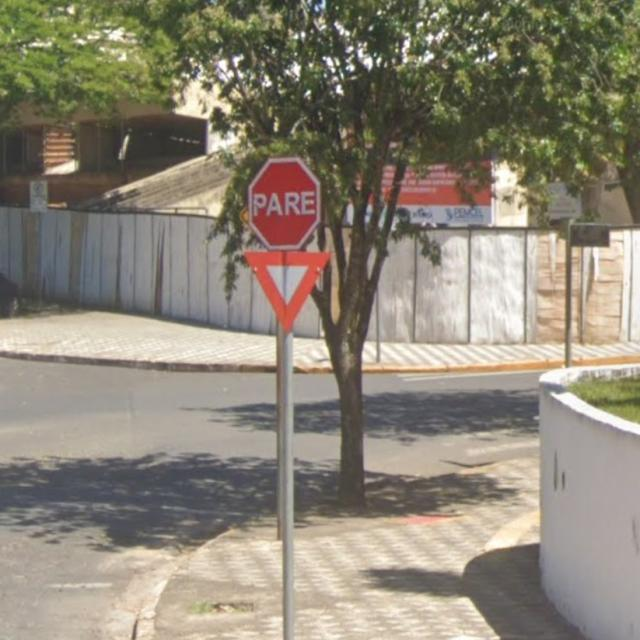stop: (218, 136, 337, 260)
